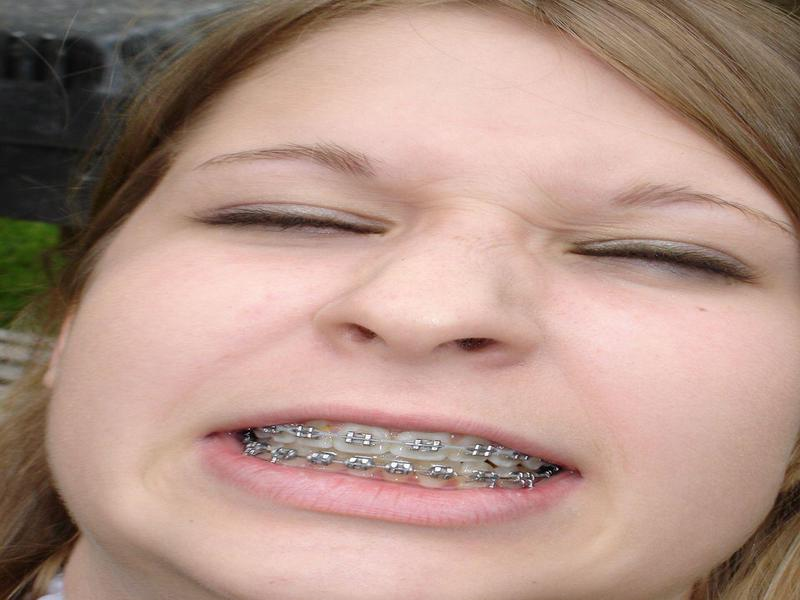person: (20, 1, 800, 598)
